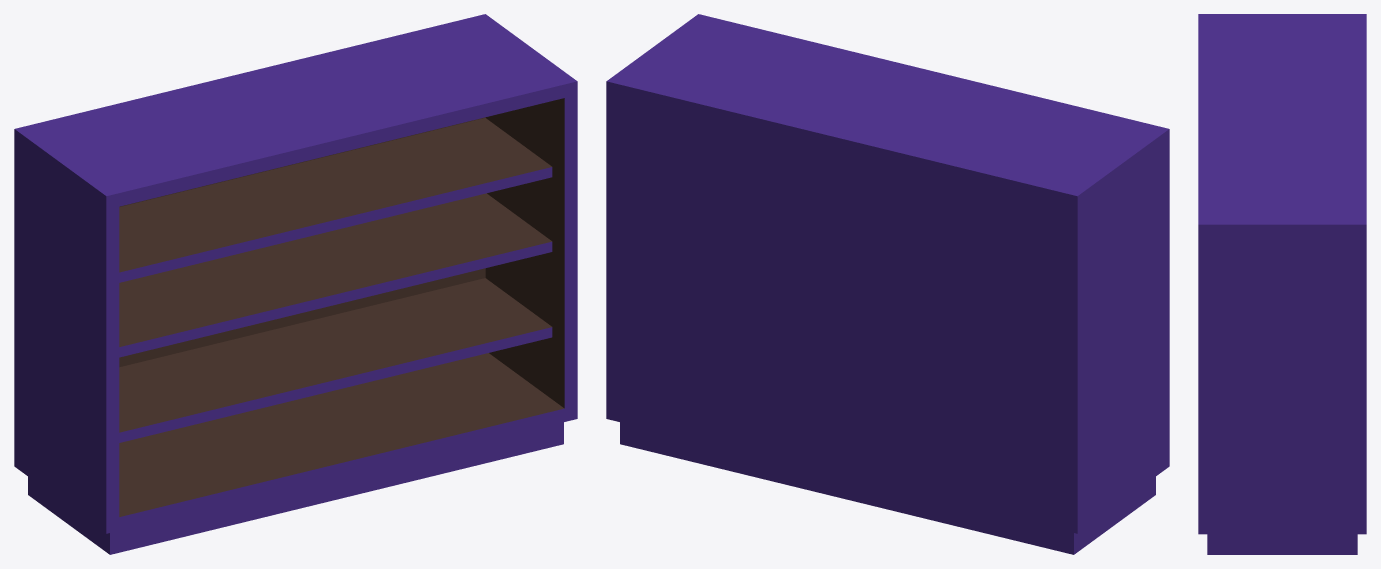
The model's file is cabinet4.fbx.
The picture shows the model from 3 angles, left to right: view 1: azimuth 30°, elevation 25°; view 2: azimuth 150°, elevation 25°; view 3: azimuth 270°, elevation 25°; orthographic projection. The views are drawn at different scales.
Visible parts, largest first — view 1: cabinet4; view 2: cabinet4; view 3: cabinet4.
Boxes of the visible parts, left/top/right/bottom form: cabinet4: left=14, top=14, right=577, bottom=554; cabinet4: left=606, top=14, right=1169, bottom=554; cabinet4: left=1198, top=14, right=1366, bottom=554.
Size of the model in its own units: 126 by 93.33 by 42.7.
